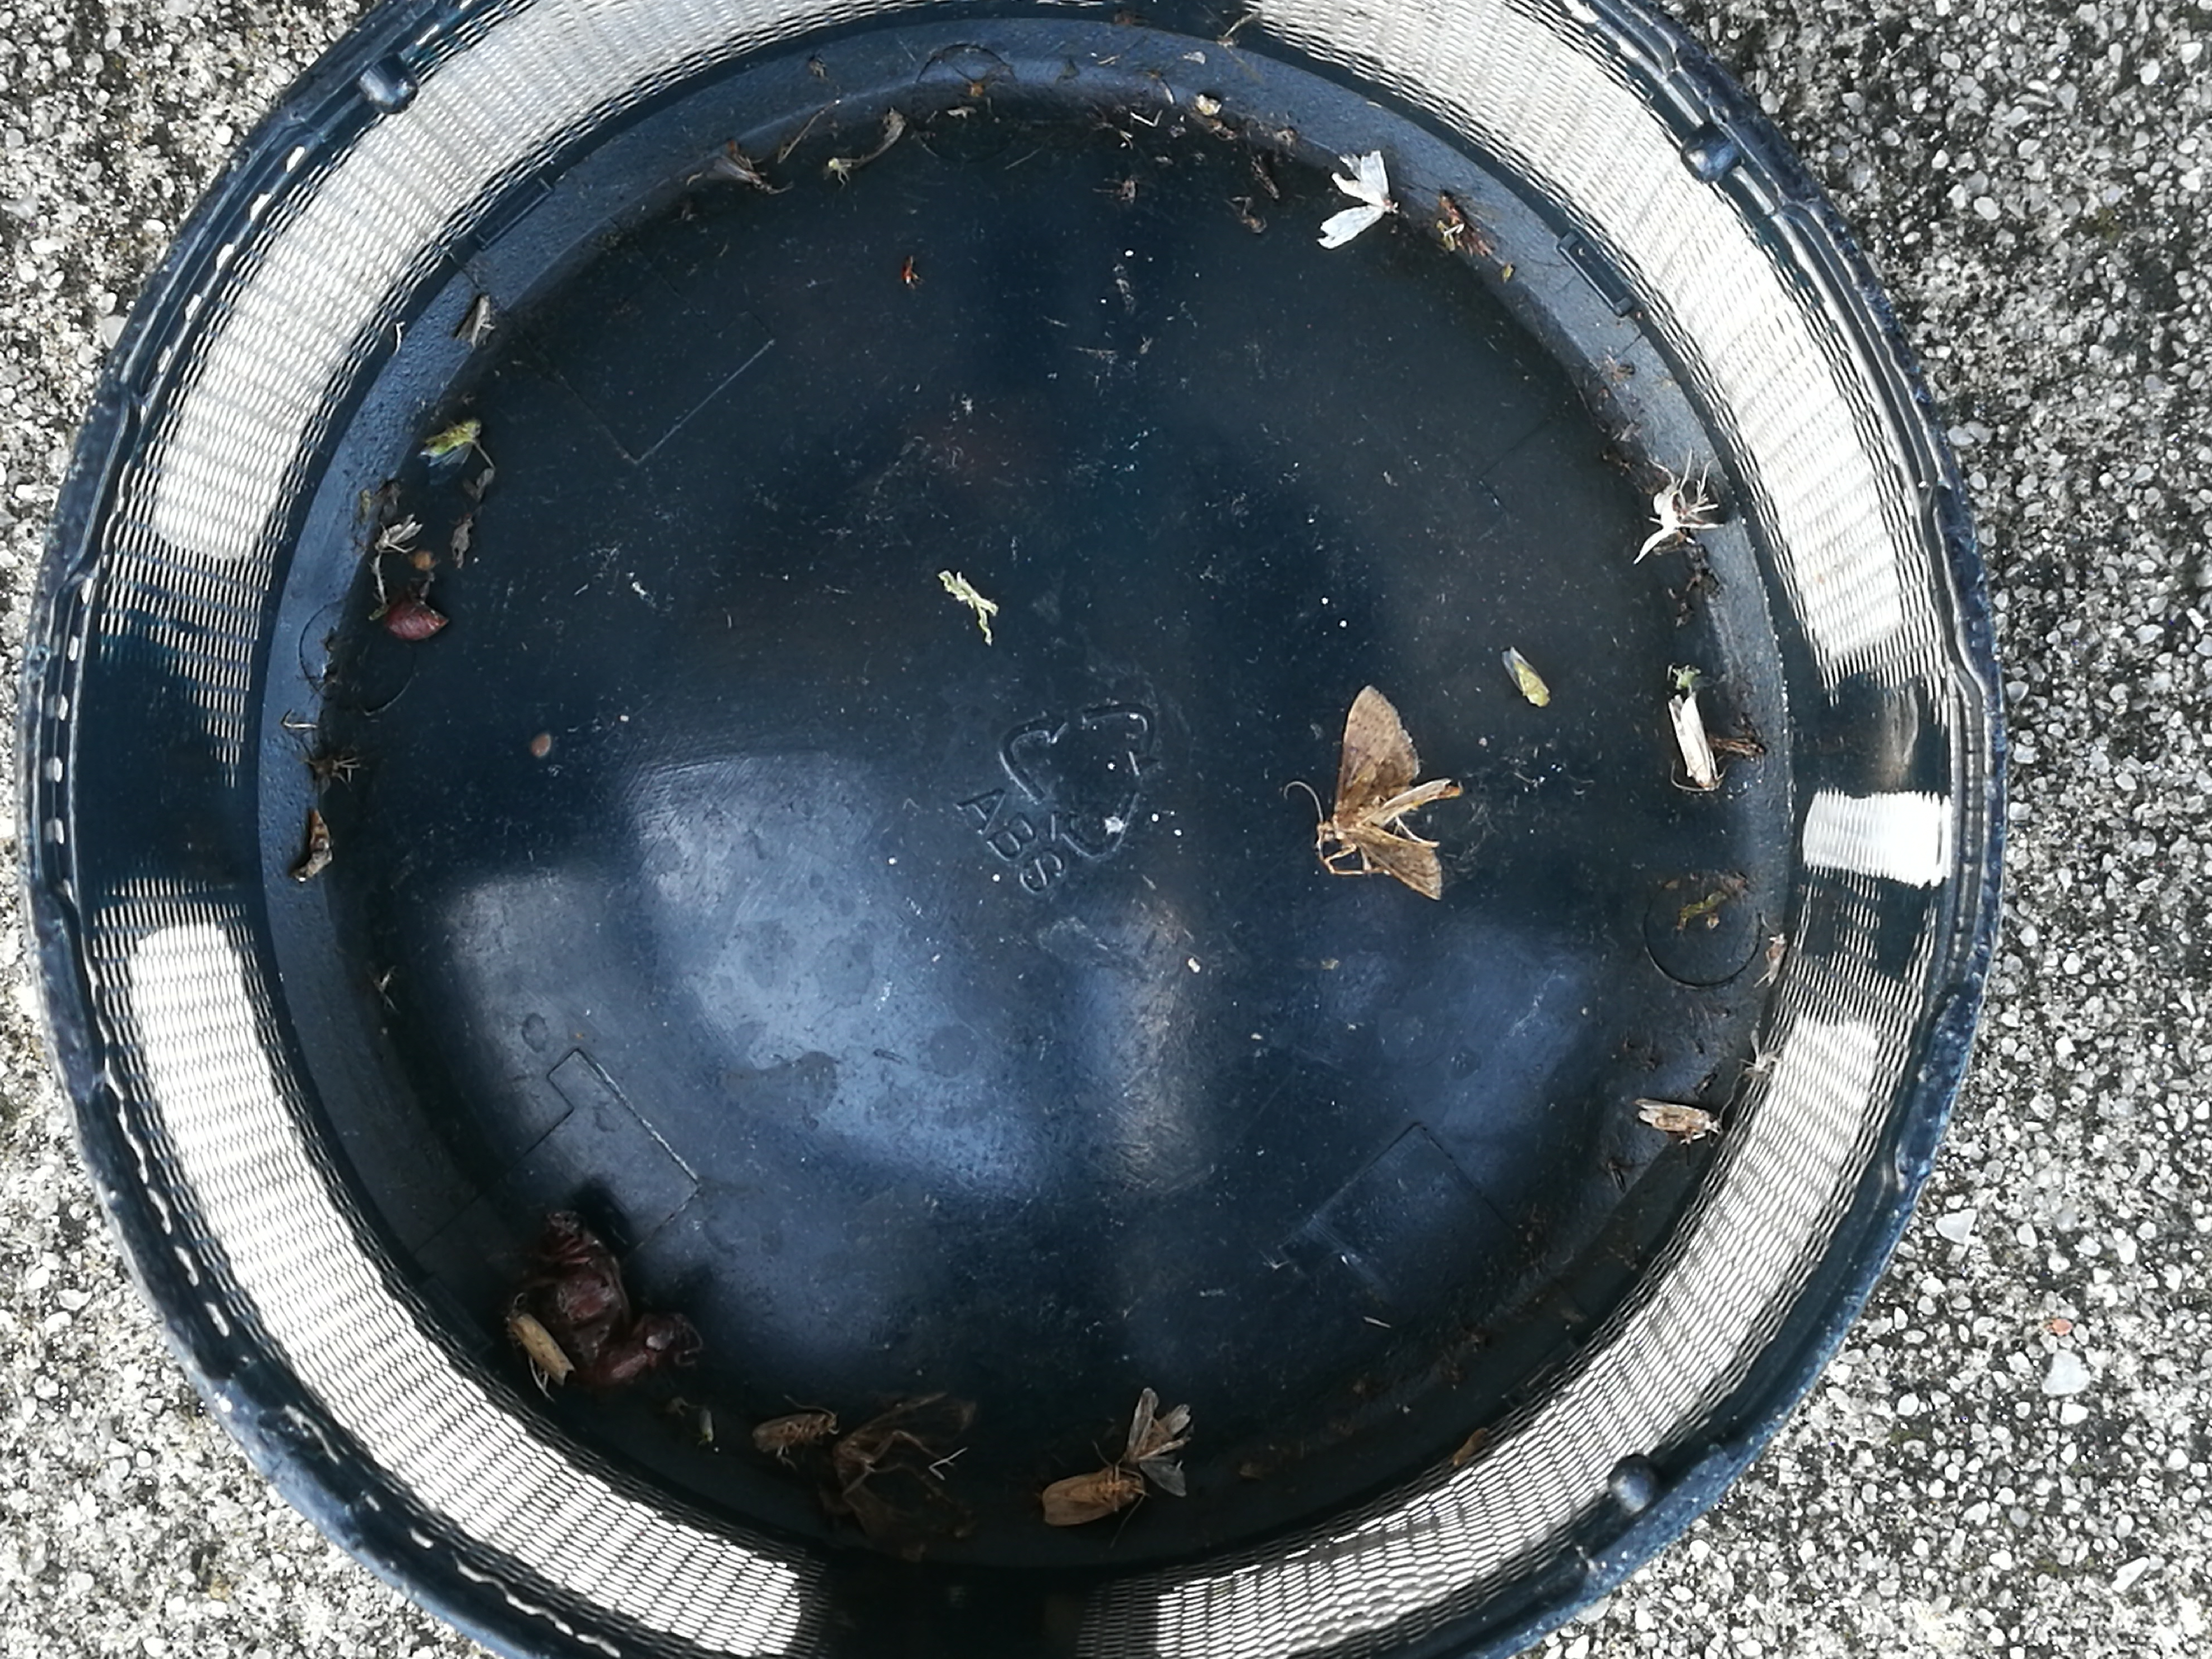beetle: (545, 1213, 625, 1377), (596, 1312, 688, 1389)
mosquito: (507, 1309, 575, 1391), (1672, 695, 1716, 793), (756, 1410, 838, 1450), (1635, 1100, 1716, 1133)
moth: (1317, 685, 1463, 901), (834, 1389, 953, 1537), (1318, 150, 1395, 247), (1125, 1389, 1188, 1497), (1045, 1473, 1137, 1527)
